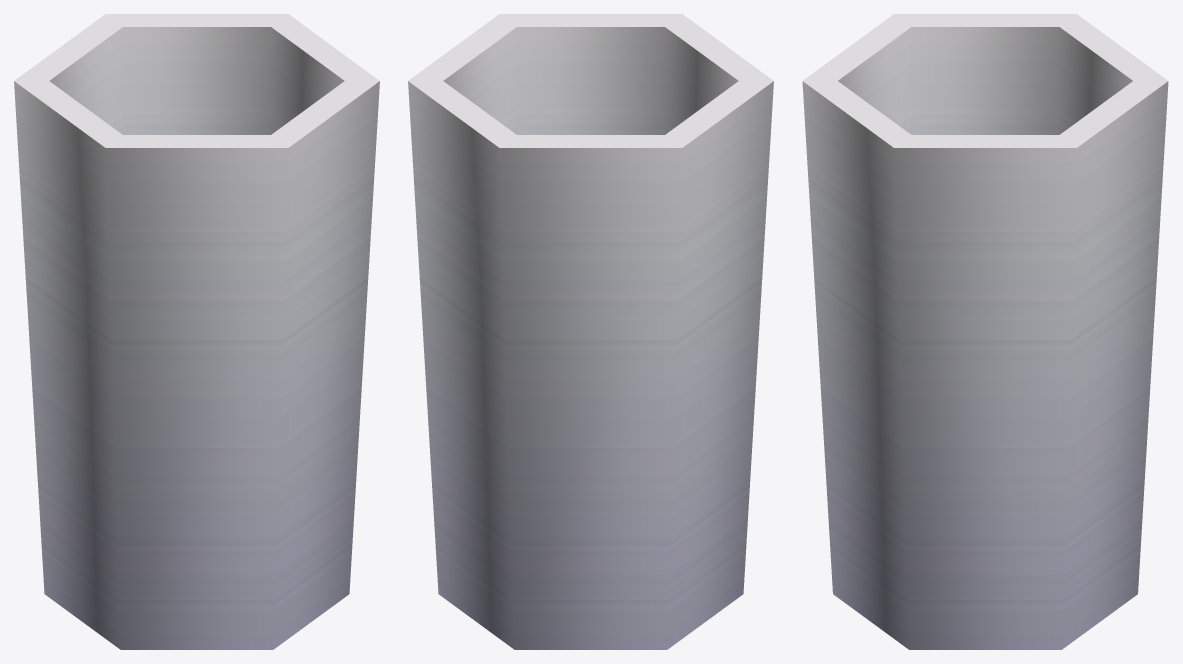
File: glass.glb
The picture shows the model from 3 angles, left to right: view 1: azimuth 30°, elevation 25°; view 2: azimuth 150°, elevation 25°; view 3: azimuth 270°, elevation 25°; orthographic projection.
Visible parts, largest first — view 1: glass; view 2: glass; view 3: glass.
Boxes of the visible parts, left/top/right/bottom form: glass: left=14, top=14, right=379, bottom=649; glass: left=408, top=14, right=773, bottom=649; glass: left=802, top=14, right=1168, bottom=649.
Bounding box in the file's own units: 0.1596 × 0.2851 × 0.1843.
Materials: 1 (1 with a texture image).
